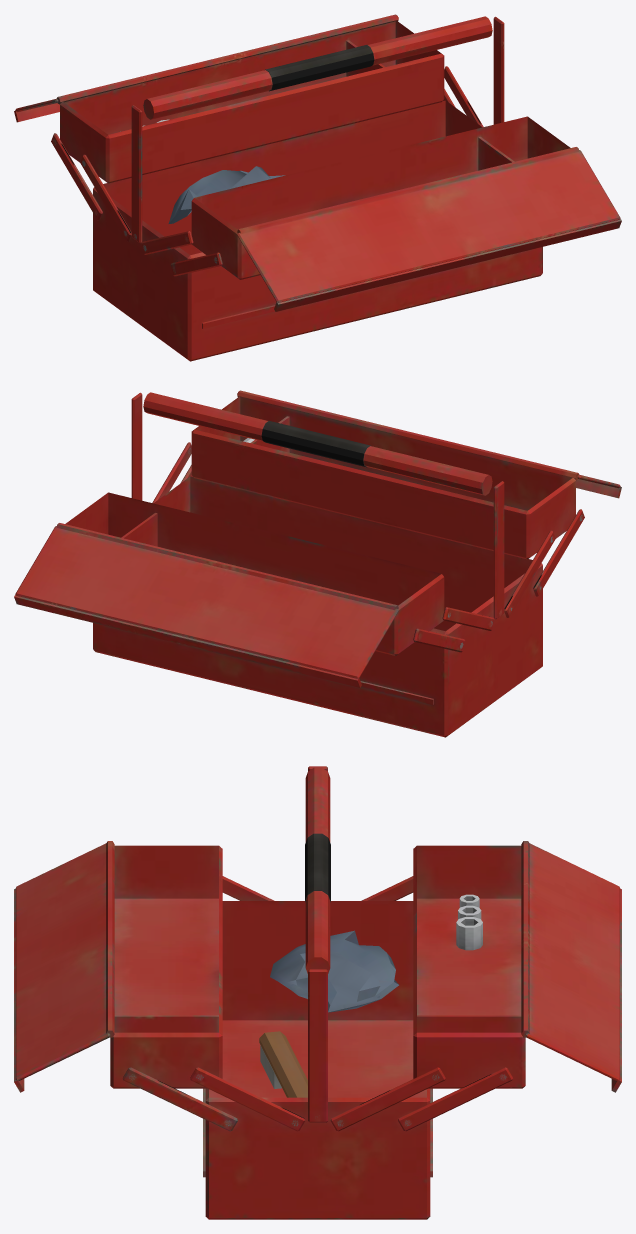
File: toolbox.glb
3 renders of one model, top to bottom at view 1: azimuth 30°, elevation 25°; view 2: azimuth 150°, elevation 25°; view 3: azimuth 270°, elevation 25°, orthographic. The views are drawn at different scales.
Parts seen in each view (by area): view 1: toolbox; view 2: toolbox; view 3: toolbox.
Part boxes in pixels (x1,y1,x2,y2): toolbox: (14, 14, 621, 361); toolbox: (14, 390, 621, 737); toolbox: (14, 766, 621, 1219).
Bounding box in the file's own units: 0.432 × 0.261 × 0.5413.
Materials: 1 (1 with a texture image).
